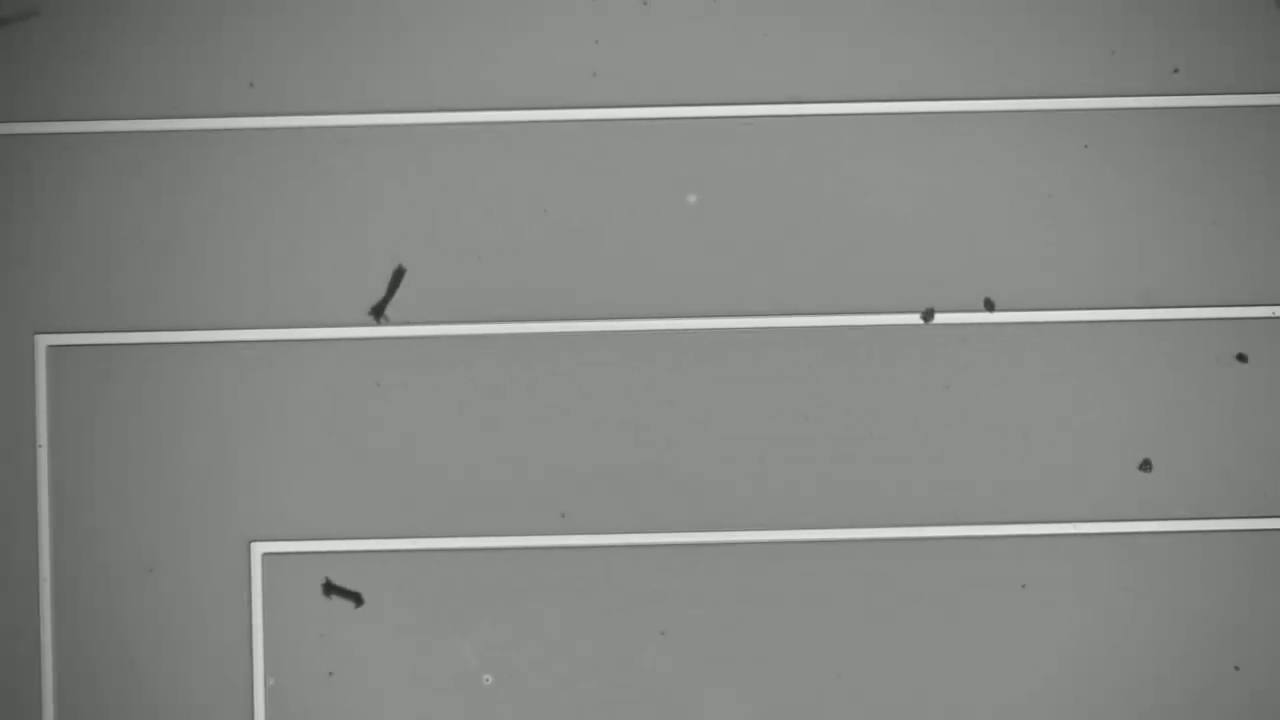stains_enbedded: (915, 301, 945, 335)
